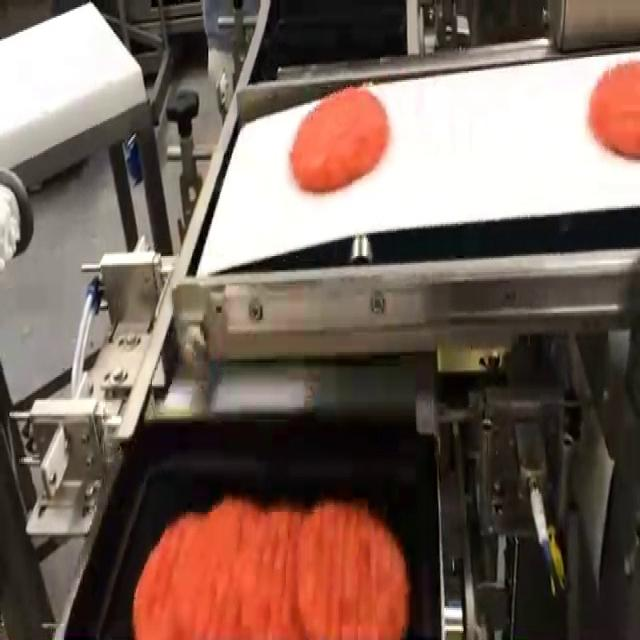4-hamburguer: (134, 498, 409, 638)
